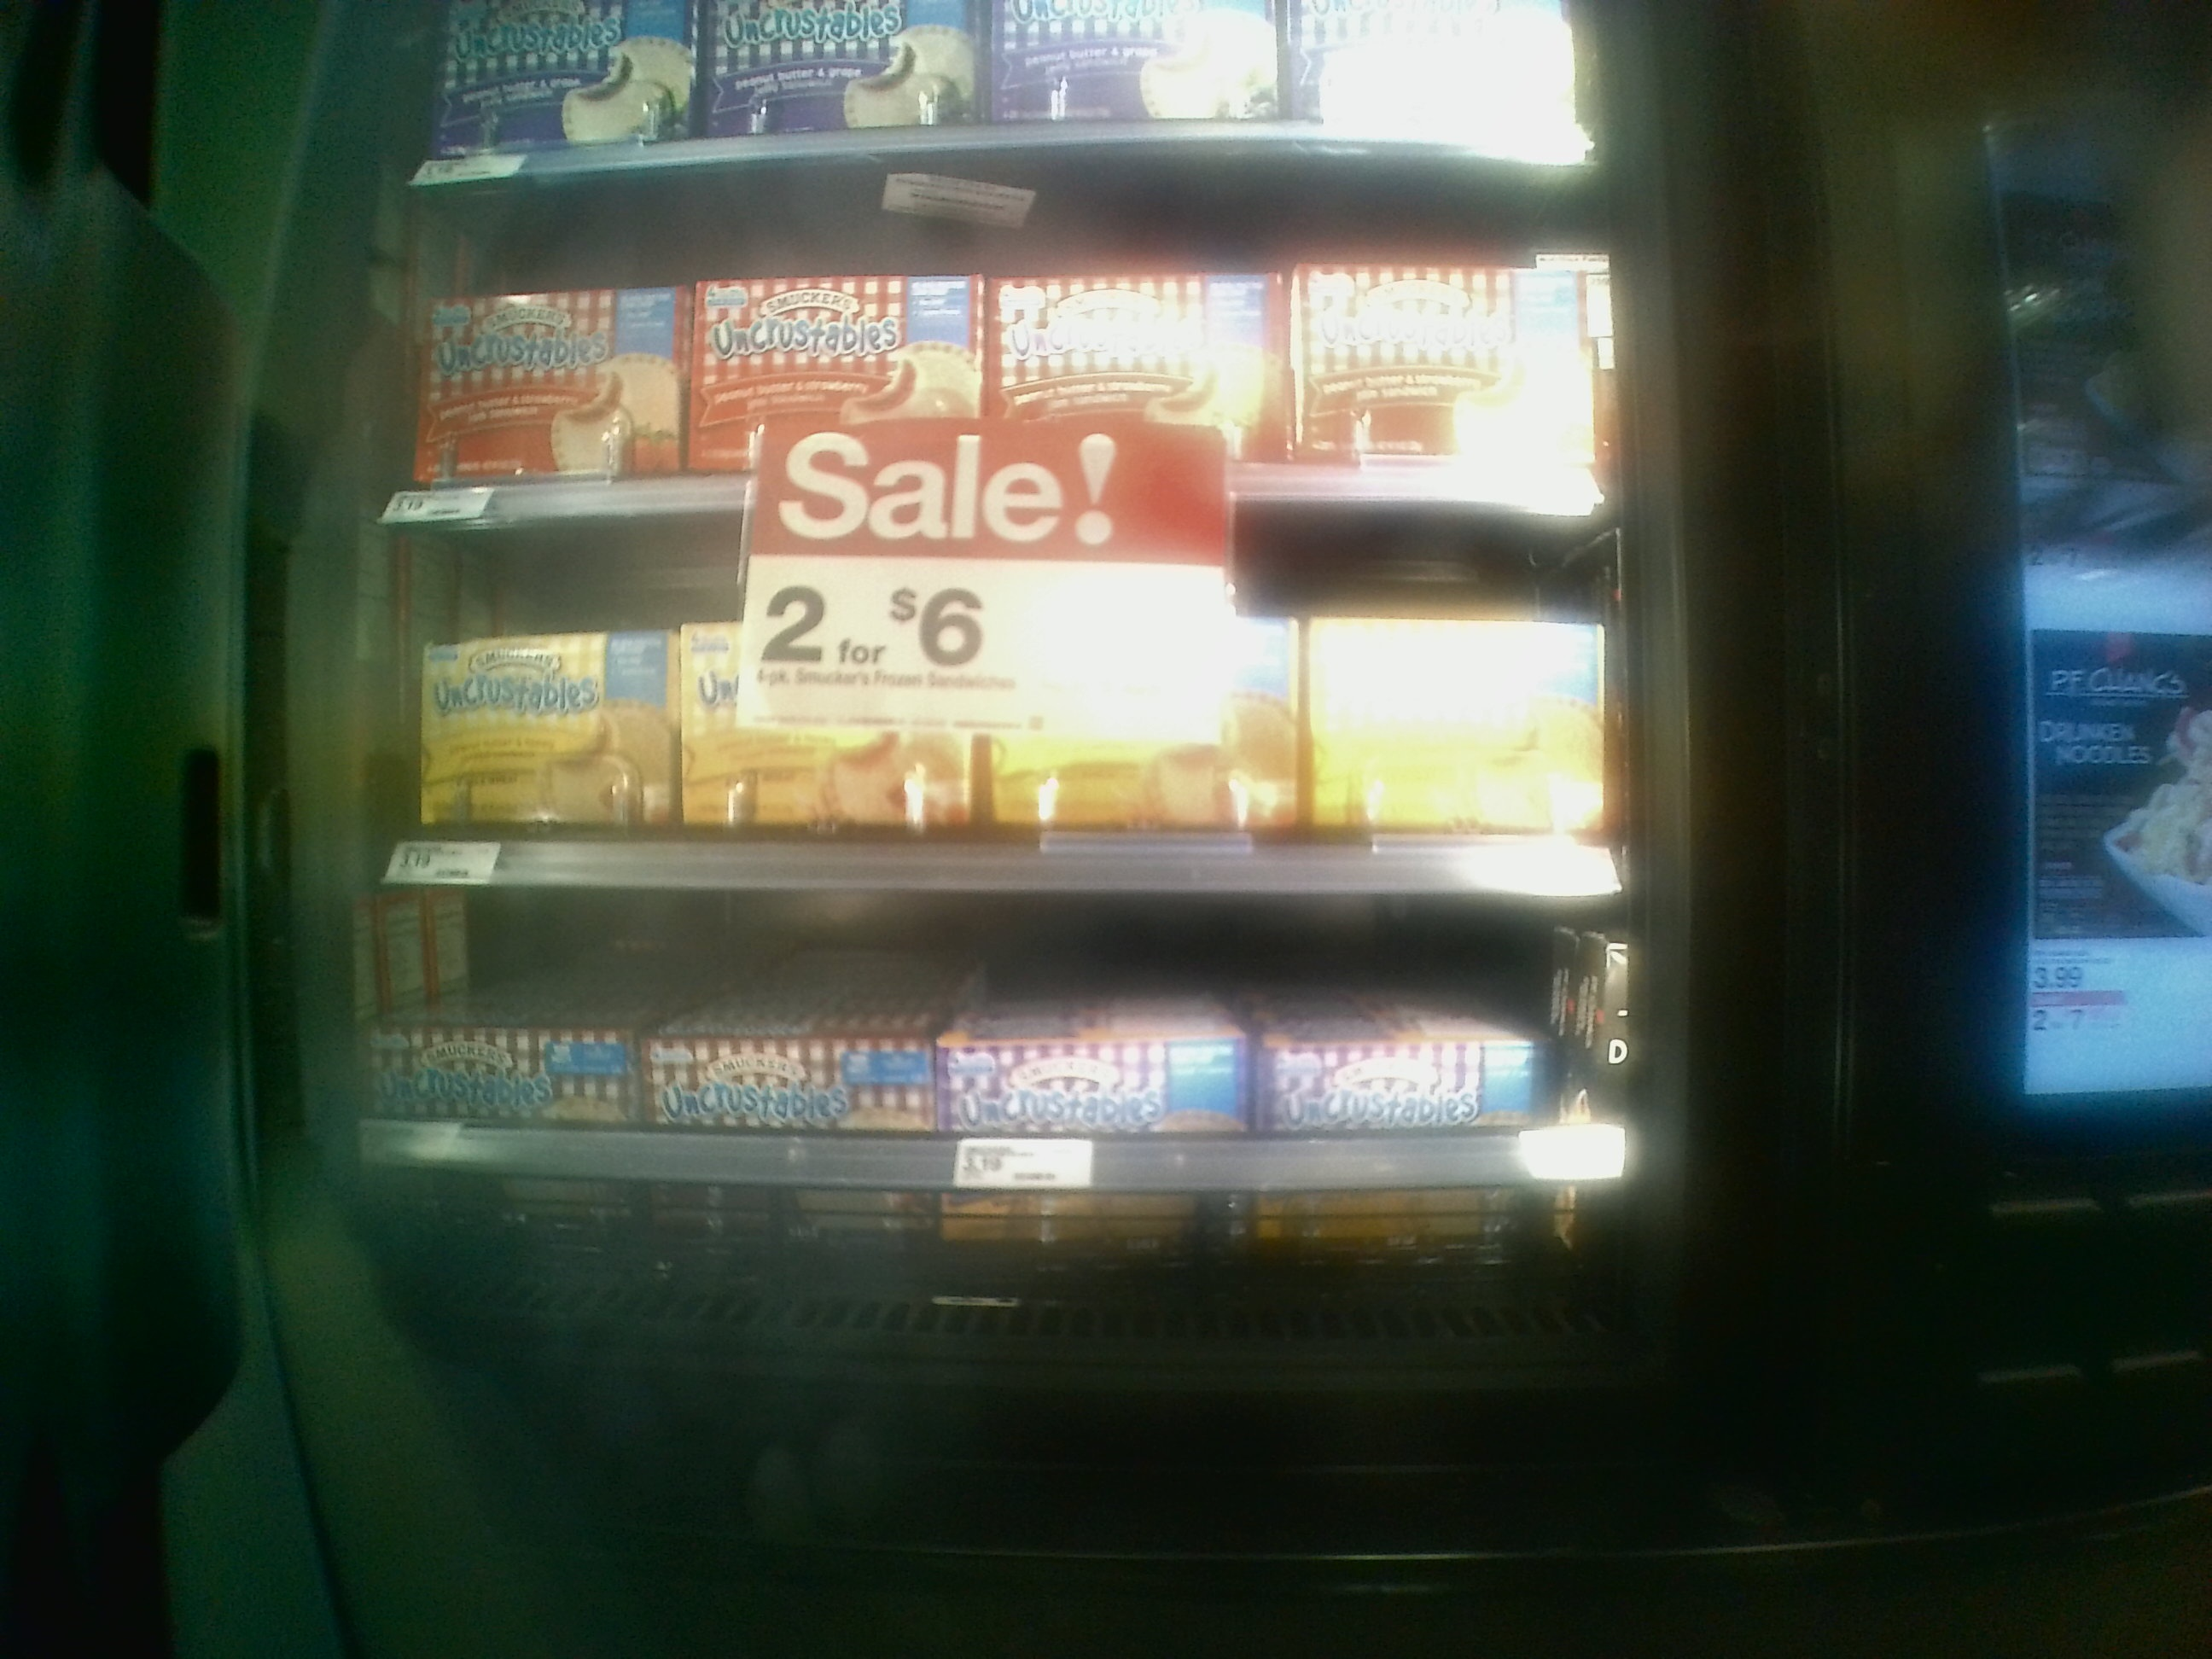shelf: (329, 864, 1634, 1321), (350, 528, 1634, 897), (374, 167, 1609, 530)
